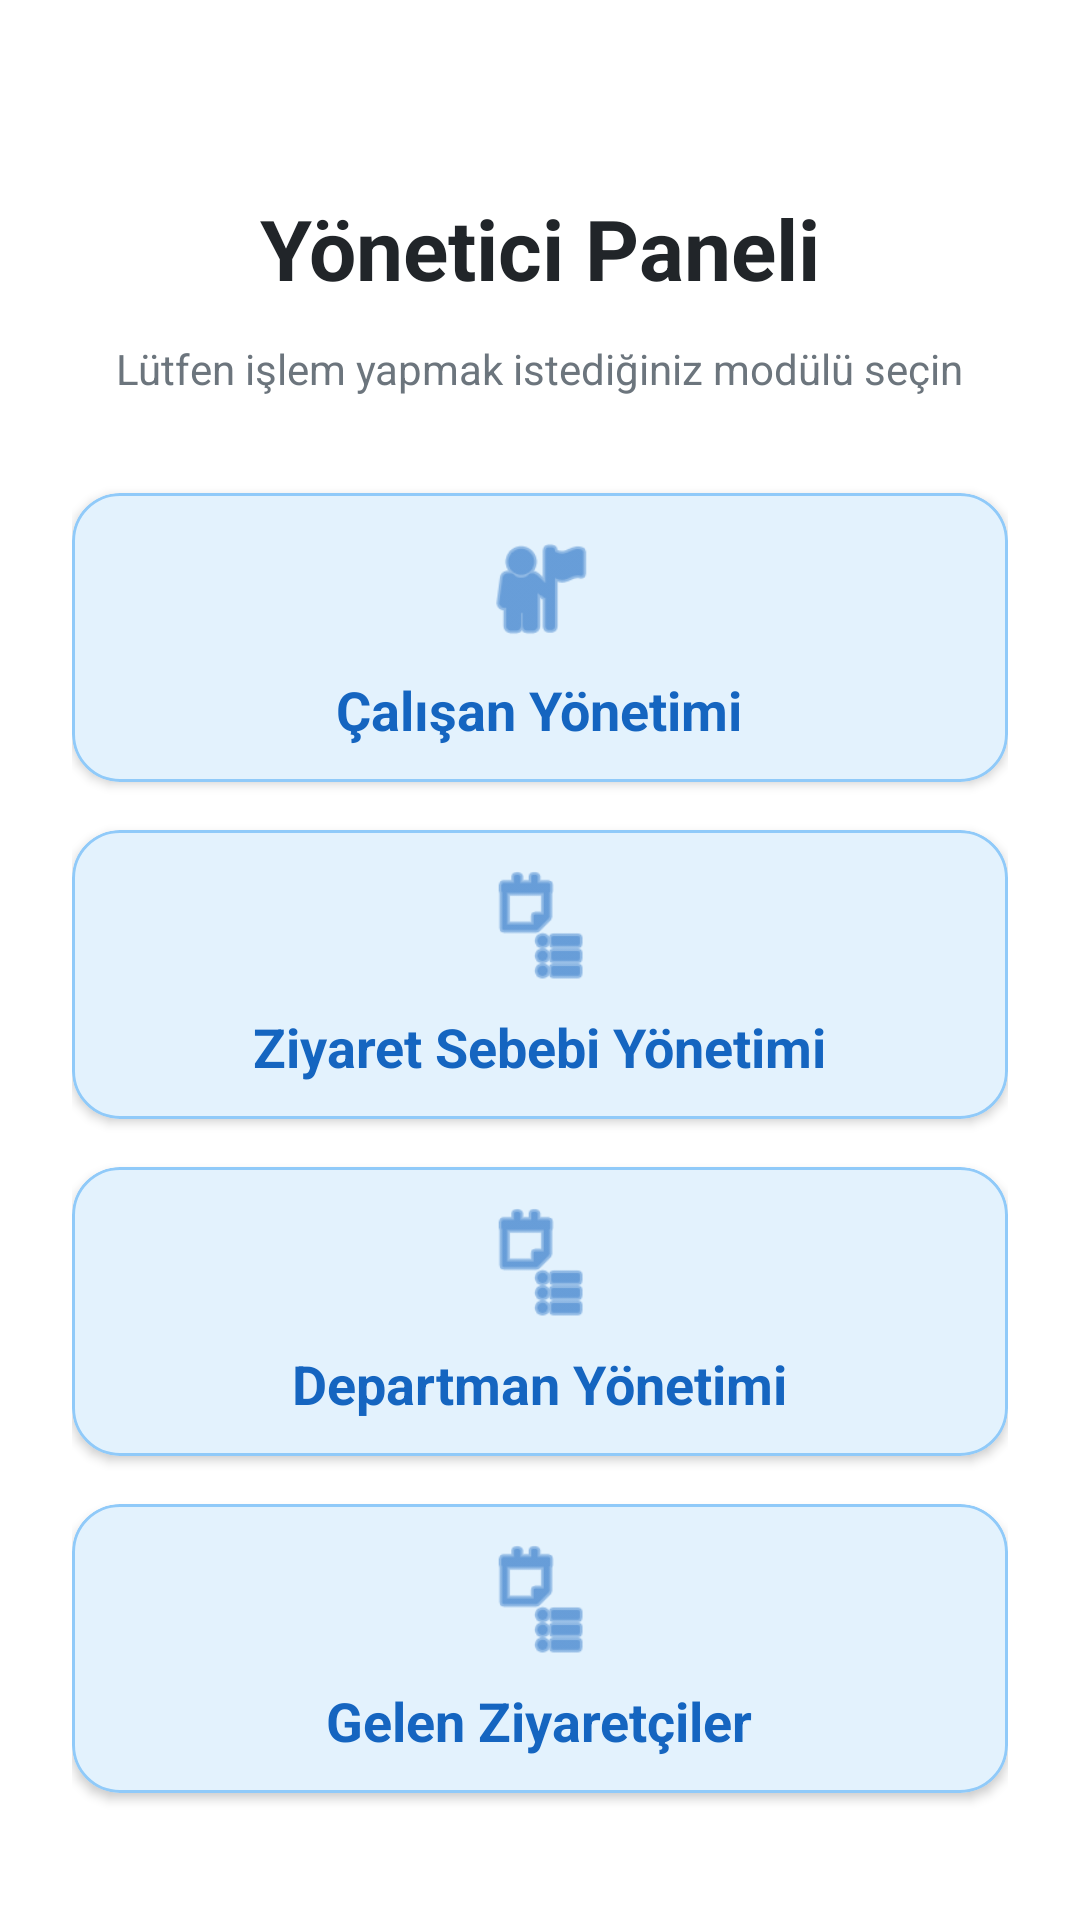

Locate icon controls on the screen. Image size 1080×1920, boxes as (x1, y1, x2, y2).
agenda: (498, 872, 583, 979), (498, 1209, 583, 1316), (498, 1546, 583, 1653)
